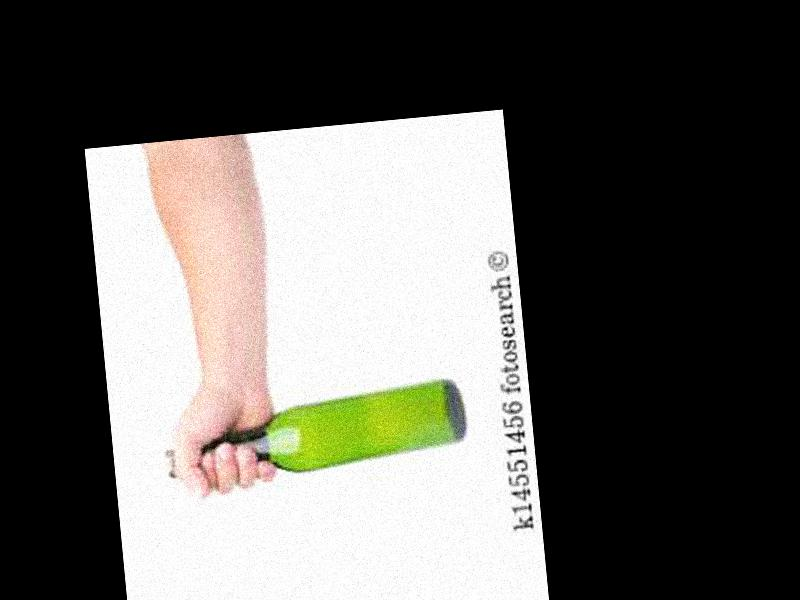Beer: (162, 376, 469, 484)
